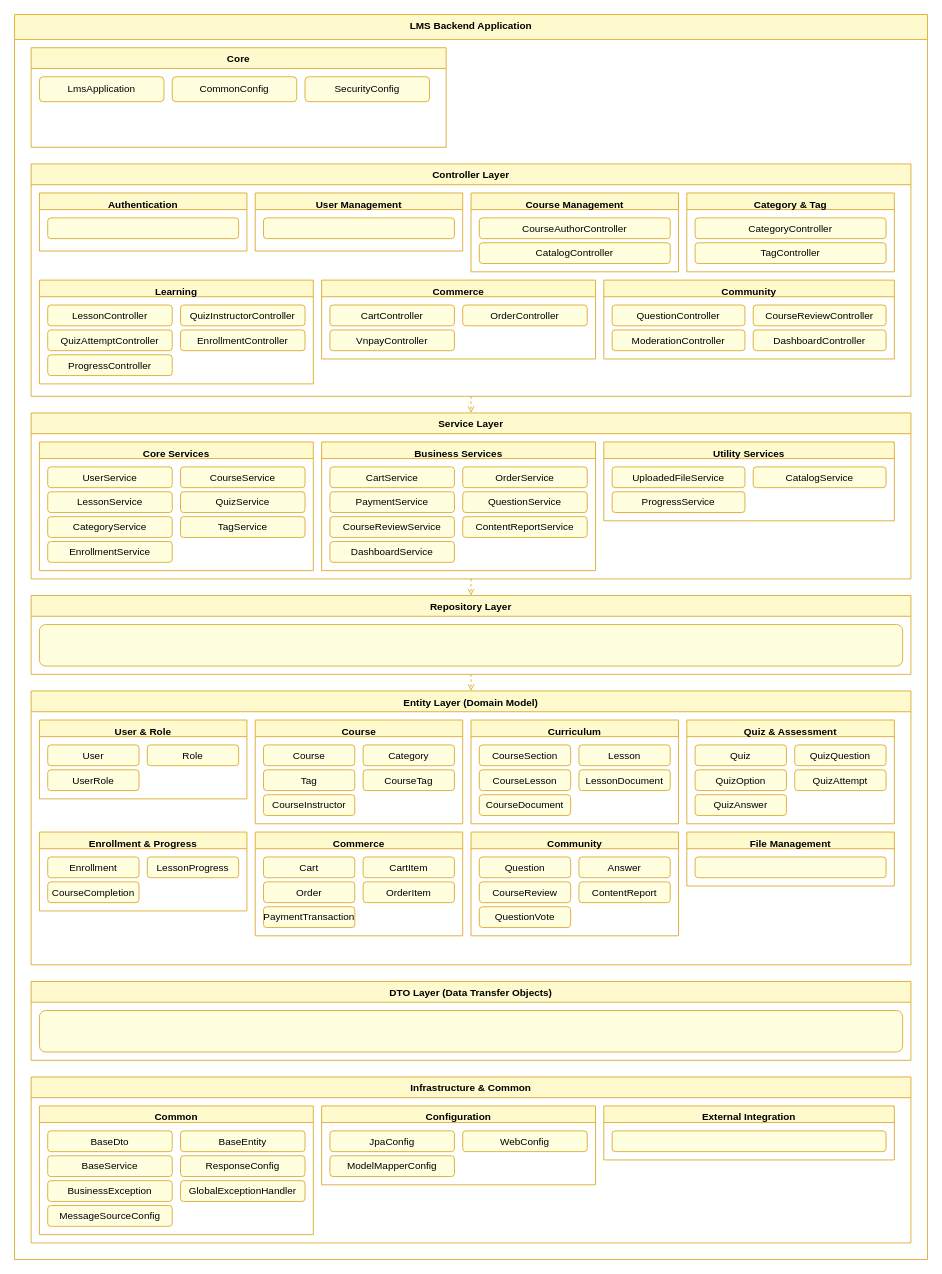
The diagram is 942 pixels wide and 1274 high, and some of its shapes have lost their labels. The shapes that lost their labels are listed below. From the top down, each one's centre as x and y in pixels, then its label:
At pixel 143 228: "AuthController".
At pixel 358 228: "UserController".
At pixel 471 645: "JPA Repositories (extends JpaRepository)".
At pixel 790 867: "UploadedFile".
At pixel 471 1031: "Request DTOs, Response DTOs, Dashboard DTOs".
At pixel 748 1141: "VNPay Payment Gateway".
